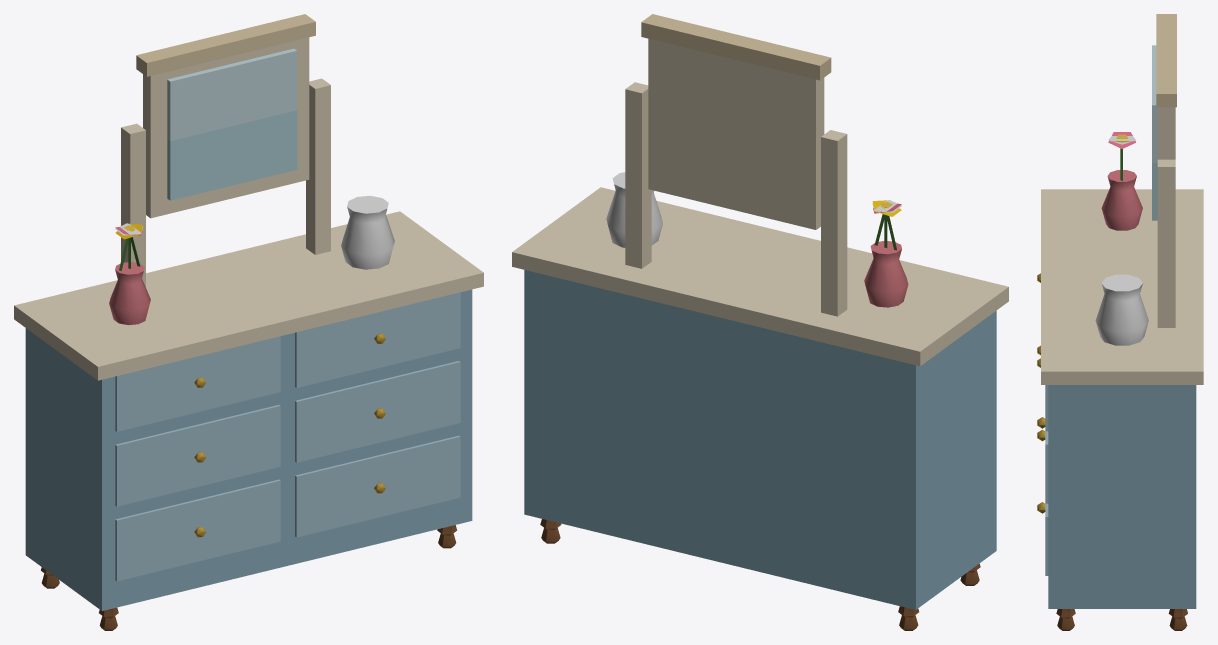
File: dresser.glb
3 renders of one model, left to right at view 1: azimuth 30°, elevation 25°; view 2: azimuth 150°, elevation 25°; view 3: azimuth 270°, elevation 25°, orthographic. The views are drawn at different scales.
Visible parts, largest first — view 1: furniture-dresser; view 2: furniture-dresser; view 3: furniture-dresser.
Part boxes in pixels (x1=…): furniture-dresser: x1=14, y1=14, x2=483, y2=630; furniture-dresser: x1=512, y1=14, x2=1008, y2=630; furniture-dresser: x1=1037, y1=14, x2=1203, y2=630.
Bounding box in the file's own units: 1.46 × 1.85 × 0.562.
